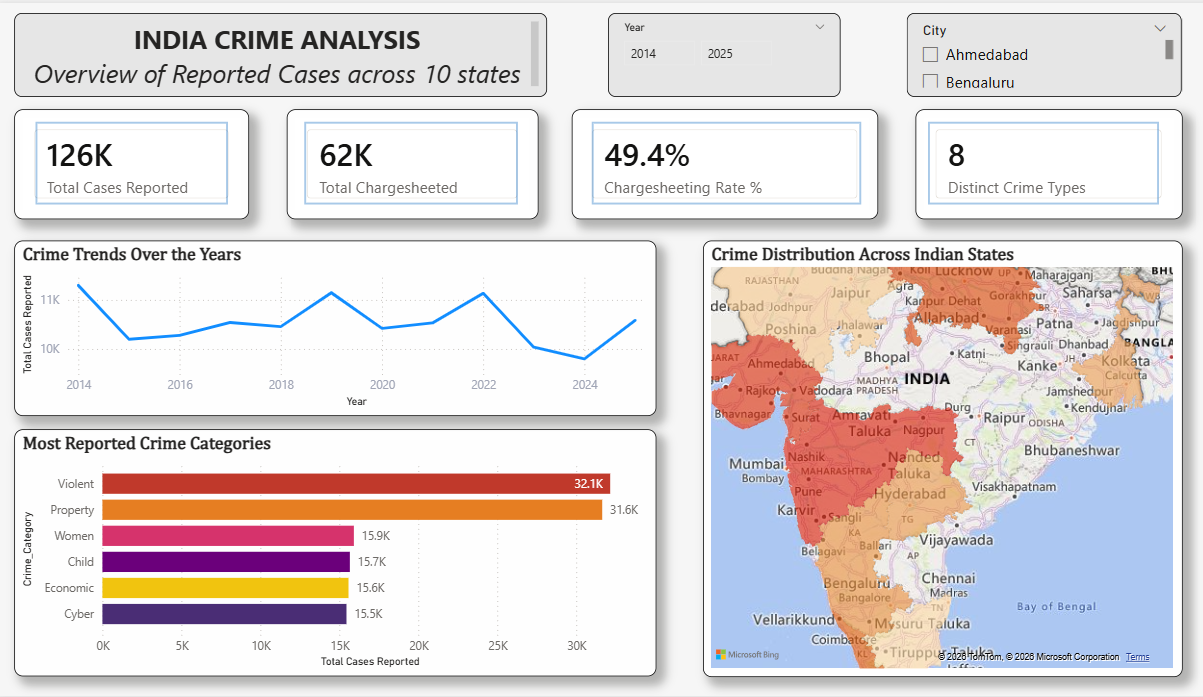

The page's visual inventory and layout, read from the dashboard file:
{"tool":"powerbi","page":{"name":"Overview","canvas":[1280,720],"ordinal":0},"visuals":[{"type":"textbox","box":[21.7,10.9,553.8,86.9],"z":0},{"type":"cardVisual","fields":{"Data":["Crimes.Total Cases Reported"]},"box":[22,110,244,114],"z":1000},{"type":"cardVisual","fields":{"Data":["Crimes.Total Chargesheeted"]},"box":[305.2,109.8,261.8,114.6],"z":2000},{"type":"cardVisual","fields":{"Data":["Crimes.Chargesheeting Rate %"]},"box":[600.8,109.8,318.5,114.6],"z":3000},{"type":"cardVisual","fields":{"Data":["Crimes.Distinct Crime Types"]},"box":[957.9,109.8,277.5,114.6],"z":4000},{"type":"lineChart","title":"Crime Trends Over the Years","fields":{"Category":["DateTable.Year"],"Y":["Crimes.Total Cases Reported"]},"box":[21.7,246.1,667.2,182.2],"z":5000},{"type":"clusteredBarChart","title":"Most Reported Crime Categories","fields":{"Category":["Crimes.Crime_Category"],"Y":["Crimes.Total Cases Reported"]},"box":[21.7,442.8,667.2,257],"z":6000},{"type":"filledMap","title":"Crime Distribution Across Indian States","fields":{"Category":["Crimes.State"]},"box":[737.1,246.1,498.3,453.6],"z":7000},{"type":"slicer","title":"Select Year Range","fields":{"Values":["DateTable.Year"]},"box":[639.4,10.9,241.3,86.9],"z":8000},{"type":"slicer","title":"Select City Range","fields":{"Values":["Crimes.City"]},"box":[949.5,10.9,285.9,86.9],"z":9000},{"type":"shape","box":[44,124,200,86],"z":10000},{"type":"shape","box":[324,124,222,86],"z":11000},{"type":"shape","box":[622,124,280,86],"z":12000},{"type":"shape","box":[972,124,240,86],"z":13000}]}

Visuals, with their boxes in screenshot pixels (x1, y1, x2, y2), scaled from the page's 1280x720 canvas onto the 1203x697 screenshot:
textbox: box=[20, 11, 541, 95]
cardVisual - Crimes.Total Cases Reported: box=[21, 106, 250, 217]
cardVisual - Crimes.Total Chargesheeted: box=[287, 106, 533, 217]
cardVisual - Crimes.Chargesheeting Rate %: box=[565, 106, 864, 217]
cardVisual - Crimes.Distinct Crime Types: box=[900, 106, 1161, 217]
"Crime Trends Over the Years" lineChart: box=[20, 238, 647, 415]
"Most Reported Crime Categories" clusteredBarChart: box=[20, 429, 647, 677]
"Crime Distribution Across Indian States" filledMap: box=[693, 238, 1161, 677]
"Select Year Range" slicer: box=[601, 11, 828, 95]
"Select City Range" slicer: box=[892, 11, 1161, 95]
shape: box=[41, 120, 229, 203]
shape: box=[305, 120, 513, 203]
shape: box=[585, 120, 848, 203]
shape: box=[914, 120, 1139, 203]
